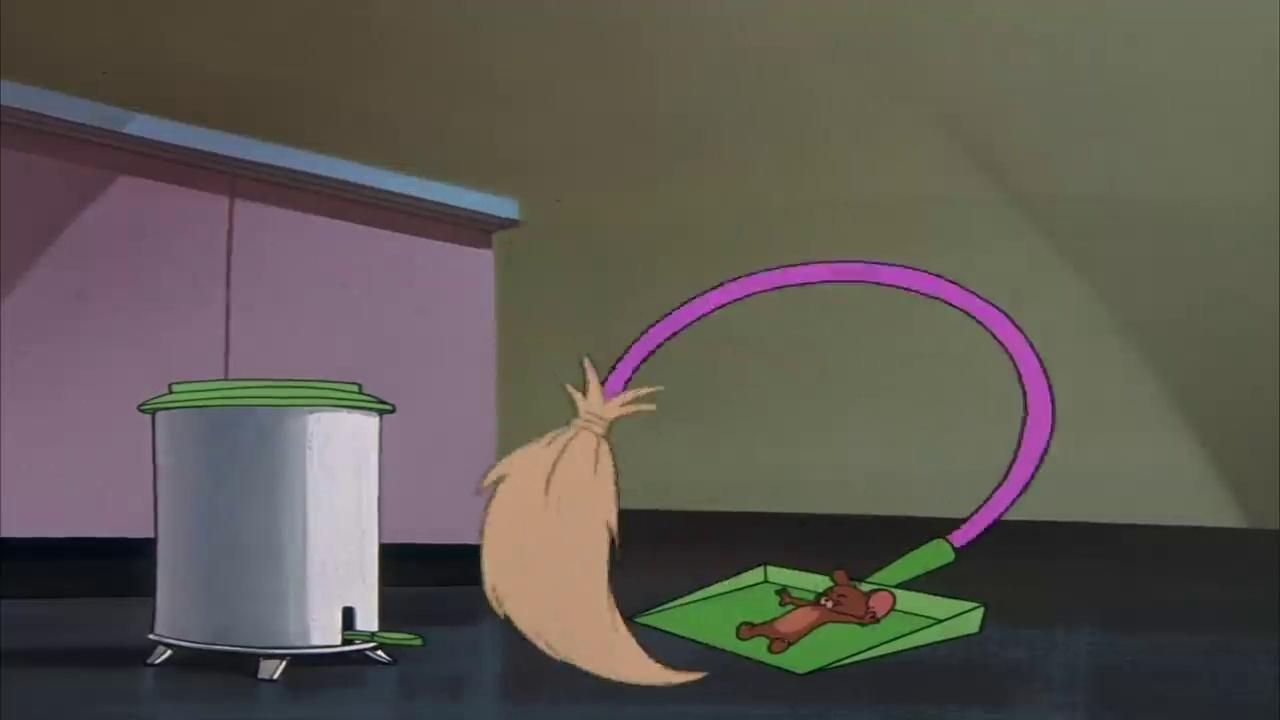Jerry: (731, 564, 897, 656)
